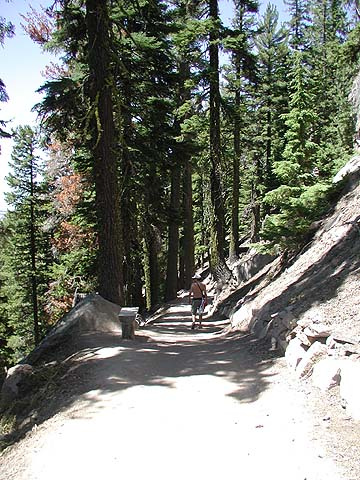person: (189, 274, 210, 331)
